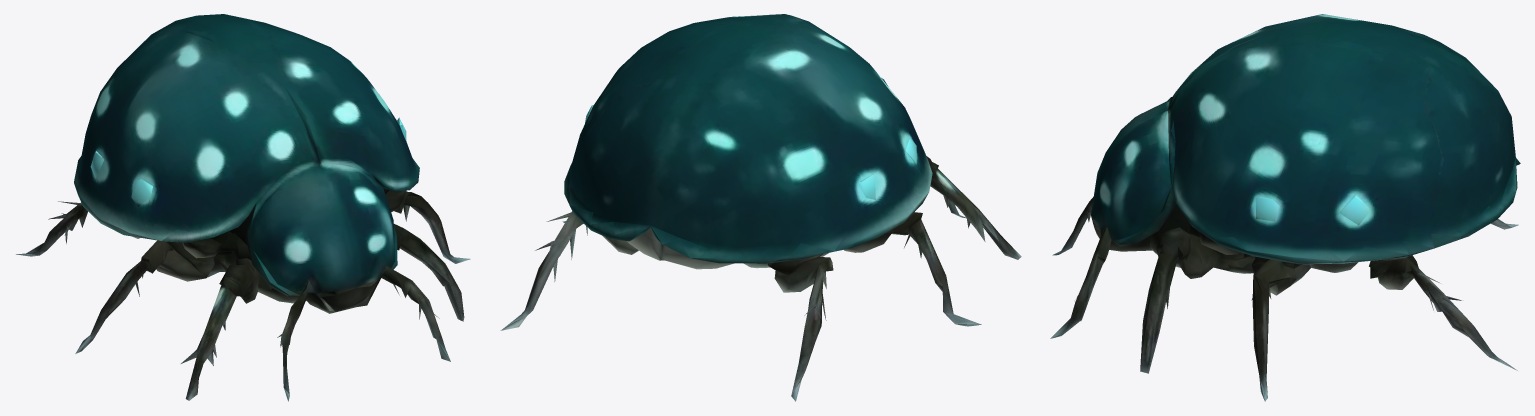
Rendered from m2CaveBeetleR.glb.
3 renders of one model, left to right at view 1: azimuth 30°, elevation 25°; view 2: azimuth 150°, elevation 25°; view 3: azimuth 270°, elevation 25°, orthographic. The views are drawn at different scales.
Visible parts, largest first — view 1: model; view 2: model; view 3: model.
Part boxes in pixels (<box>): model: <box>16,14,470,401</box>; model: <box>500,14,1021,401</box>; model: <box>1050,14,1520,401</box>.
Bounding box in the file's own units: 1.9 × 1.17 × 1.83.
1 material, 1 textured.
